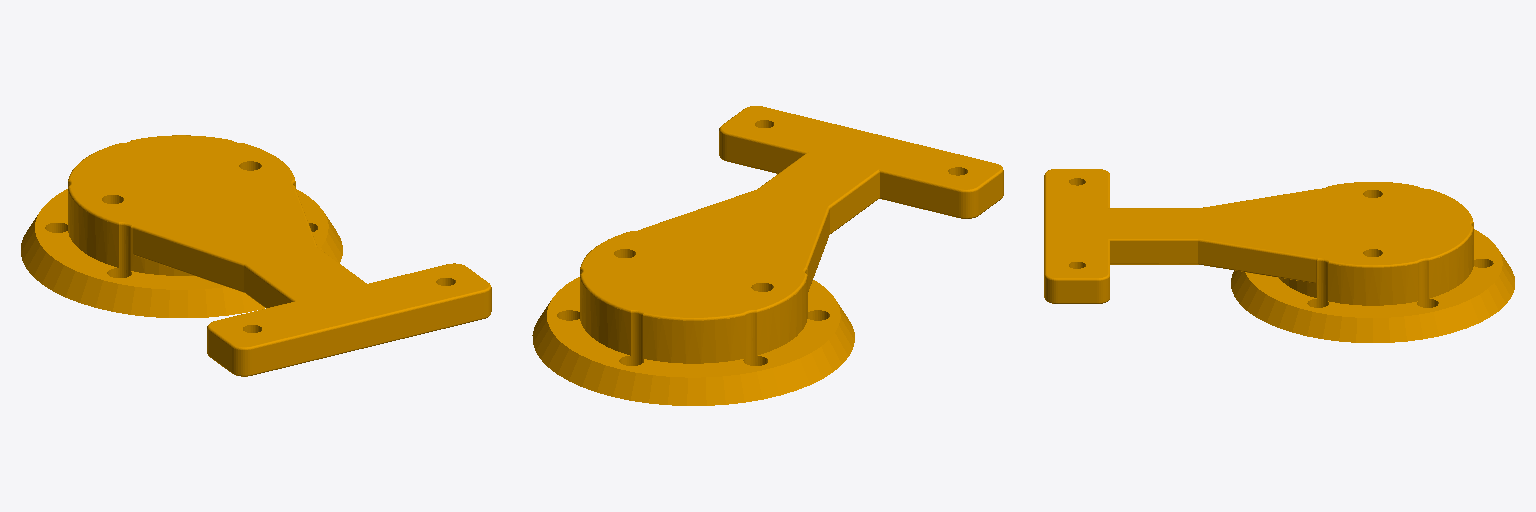
URDF robot description (ur5e_workcell):
<?xml version="1.0" ?>
<!-- =================================================================================== -->
<!-- |    This document was autogenerated by xacro from [local-path]/projects/kogrob2/urdf/urdf2_ws/src/workcell_descriptions/prbt_flange_description/urdf/prbt_flange.urdf.xacro | -->
<!-- |    EDITING THIS FILE BY HAND IS NOT RECOMMENDED                                 | -->
<!-- =================================================================================== -->
<robot name="ur5e_workcell">
  <!--Base plate-->
  <link name="prbt_flange_link">
    <visual>
      <geometry>
        <mesh filename="package://prbt_flange_description/meshes/flange_v3.STL" scale="0.001 0.001 0.001"/>
      </geometry>
      <origin rpy="3.141592653589793 0 0" xyz="-0.0325 0.0325 0.015"/>
    </visual>
    <collision>
      <geometry>
        <mesh filename="package://prbt_flange_description/meshes/flange_v3.STL" scale="0.001 0.001 0.001"/>
      </geometry>
      <origin rpy="3.141592653589793 0 0" xyz="-0.0325 0.0325 0.015"/>
    </collision>
  </link>
</robot>

--- Render facts (derived) ---
3 views of the same robot in one strip: view 1: azimuth 30°, elevation 25°; view 2: azimuth 150°, elevation 25°; view 3: azimuth 270°, elevation 25° (orthographic).
Model ur5e_workcell with 1 links and 0 joints (none), rooted at prbt_flange_link, posed every joint at zero.
Links seen in each view (by area): view 1: prbt_flange_link; view 2: prbt_flange_link; view 3: prbt_flange_link.
Boxes of the visible links, x1,y1,x2,y2 form: prbt_flange_link: [21, 135, 491, 376]; prbt_flange_link: [532, 106, 1003, 405]; prbt_flange_link: [1044, 169, 1514, 342].
Size in the robot's own frame: 0.065 by 0.1075 by 0.015 metres.
1 mesh visuals loaded from 1 distinct referenced files (1 binary STL).
